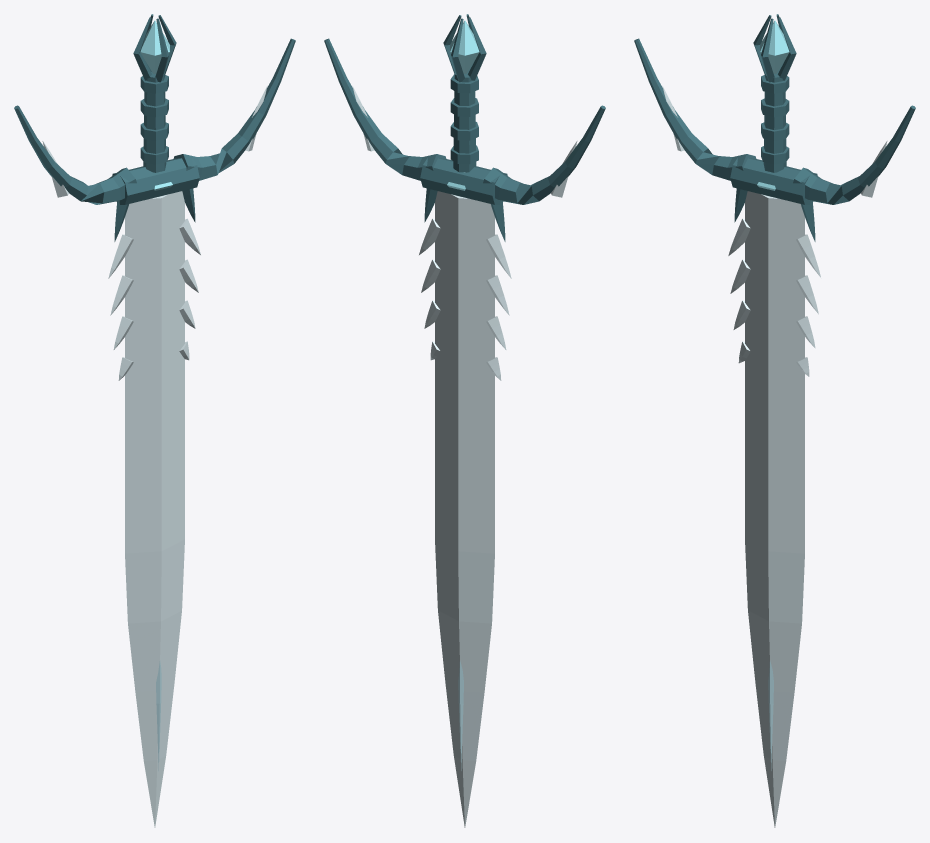
Rendered from ice_sword.glb.
The picture shows the model from 3 angles, left to right: view 1: azimuth 30°, elevation 25°; view 2: azimuth 150°, elevation 25°; view 3: azimuth 330°, elevation 25°; orthographic projection.
Visible parts, largest first — view 1: ice_sword; view 2: ice_sword; view 3: ice_sword.
Part boxes in pixels (x1,y1,x2,y2): ice_sword: (14, 14, 295, 827); ice_sword: (324, 14, 605, 827); ice_sword: (634, 14, 915, 827).
Size of the model in its own units: 0.9325 by 2.58 by 0.144.
